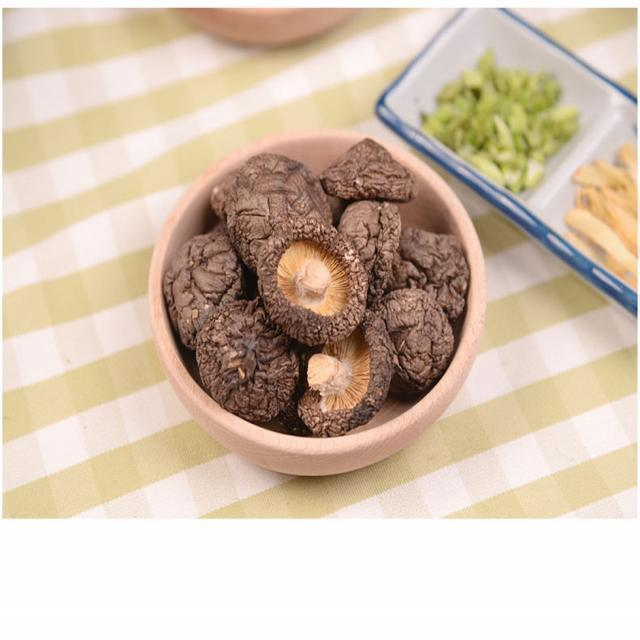Lentinus edodes: (257, 214, 366, 343), (196, 304, 297, 418), (298, 312, 394, 430), (227, 157, 329, 258), (165, 229, 244, 344), (380, 283, 454, 391), (320, 137, 418, 199)
